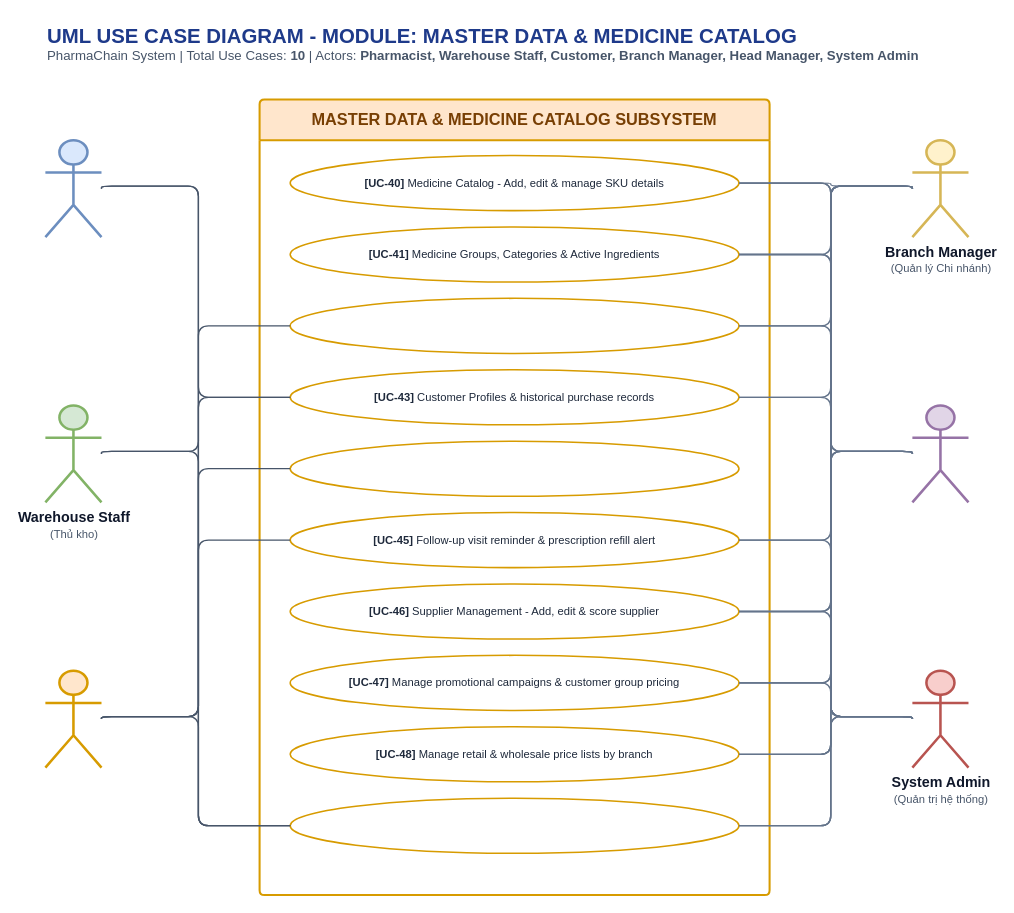
This 1014x913 diagram has some shape labels left out. Each missing label, with the centre of its shape:
"[UC-42] Link product Barcode & QR code with SKU" belongs at point (514, 325).
"[UC-44] Customers self-lookup historical order records" belongs at point (514, 468).
"[UC-49] Lookup drug instruction leaflets & drug interactions" belongs at point (514, 825).
"Customer (Khách hàng)" belongs at point (73, 718).
"Head Manager (Quản lý Chuỗi/Tổng)" belongs at point (940, 453).
"Pharmacist (Dược sĩ)" belongs at point (73, 188).
